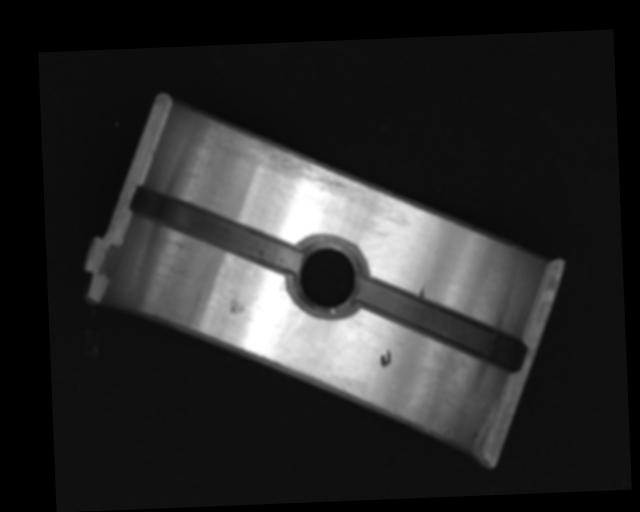blot: (378, 346, 392, 369)
bruise: (228, 295, 245, 315), (416, 285, 426, 299)
gap: (356, 272, 522, 376), (132, 179, 300, 275)
hole: (288, 233, 366, 319)
scratch: (202, 113, 373, 204)
